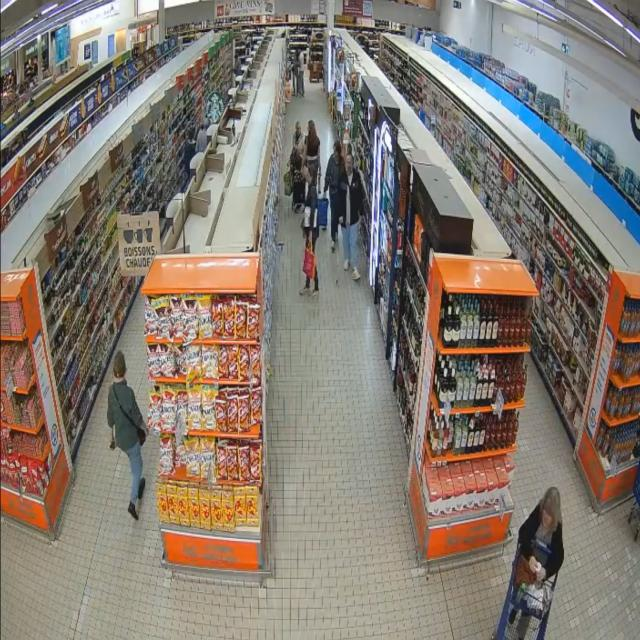article: (305, 207, 311, 227)
bags: (113, 387, 146, 446), (303, 243, 315, 279), (301, 157, 308, 178)
hands: (529, 556, 538, 573), (536, 566, 546, 581), (110, 438, 116, 450), (338, 216, 344, 225), (307, 229, 311, 242), (323, 189, 327, 198)
person: (108, 352, 145, 519), (519, 488, 564, 581), (337, 154, 363, 280), (324, 141, 345, 251), (303, 168, 319, 253), (289, 147, 305, 211), (305, 120, 320, 174), (293, 121, 304, 155)
